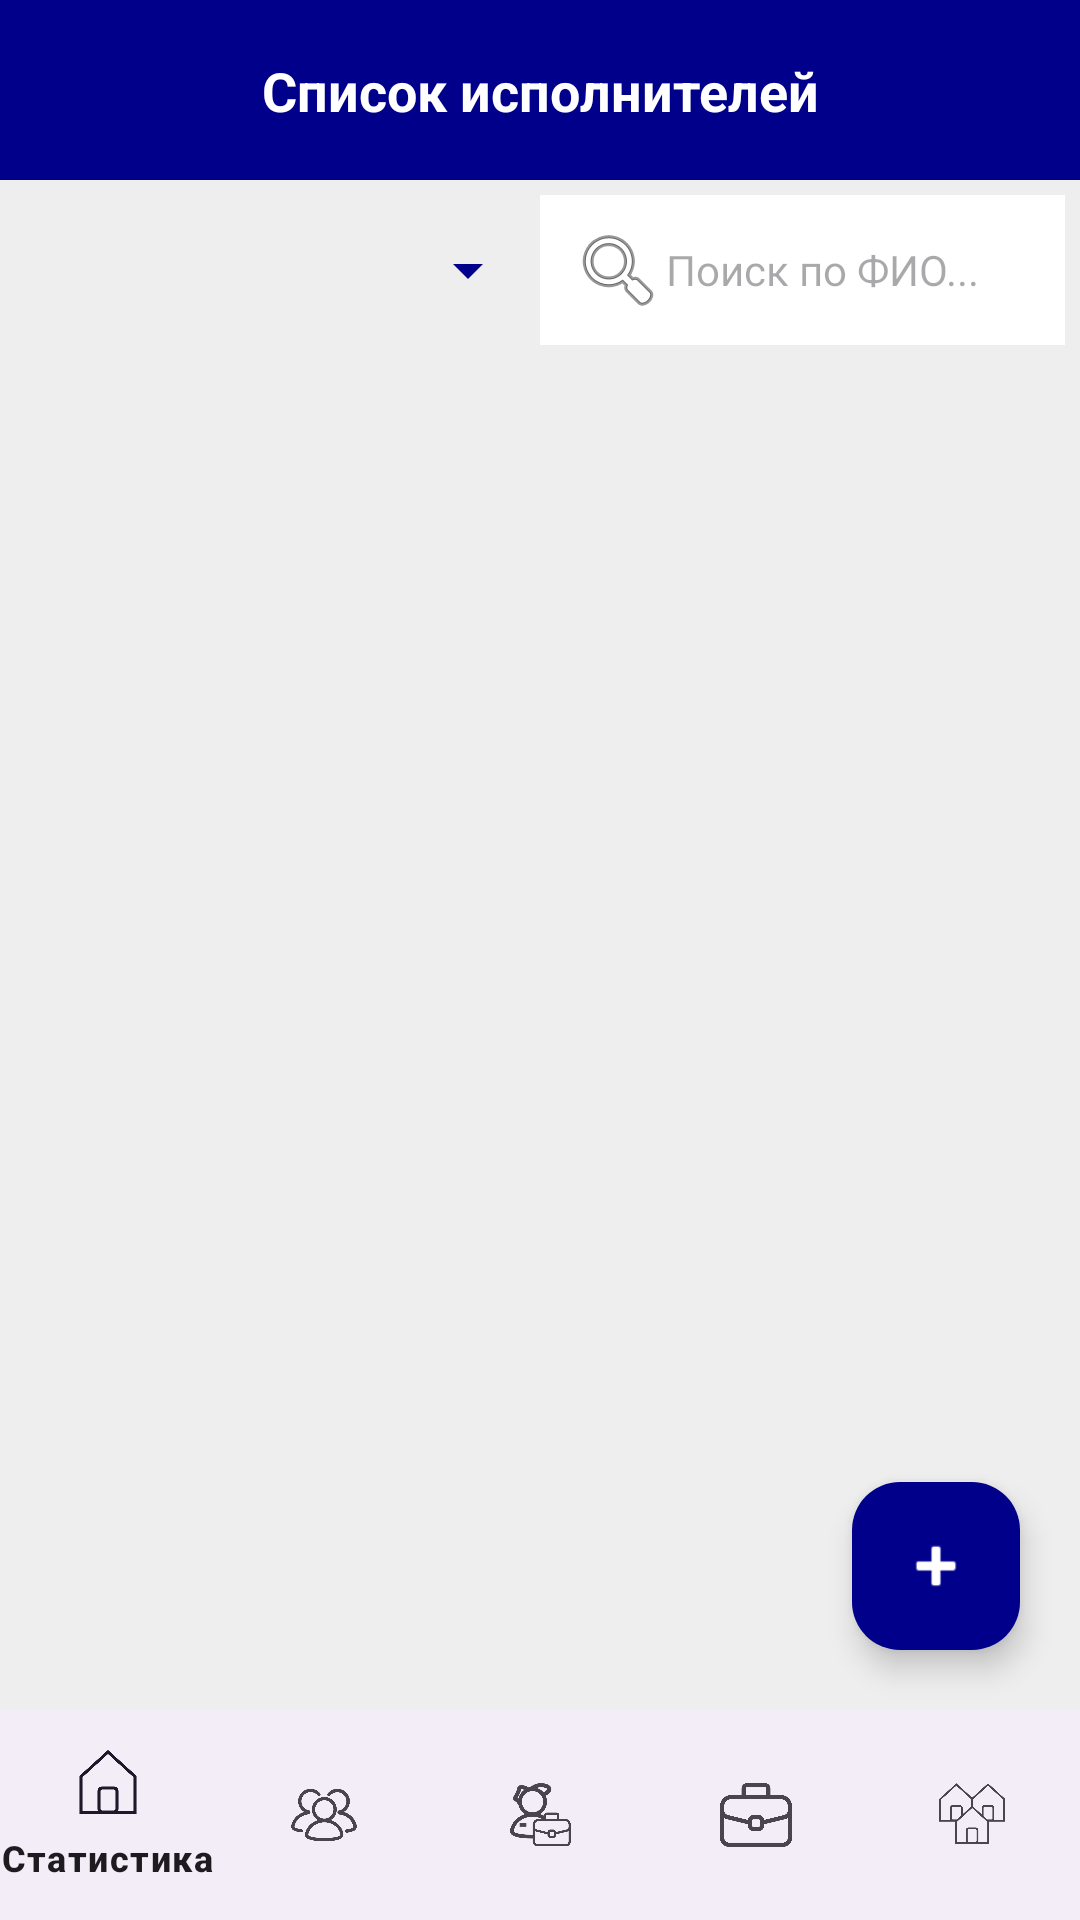

Icons on this 1080 × 1920 Android screen, each with its box as (x1, y1, x2, y2):
add: (852, 1482, 1020, 1650)
